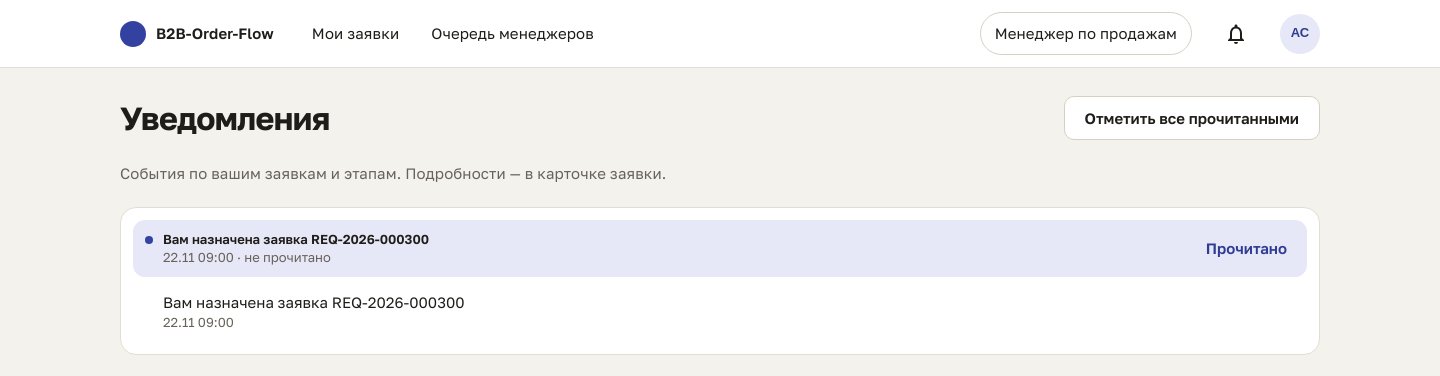
Test: UI-14. Экран уведомлений › запрос счётчика упал, а список загрузился › на экране кнопка активна, пока в списке есть непрочитанные
Check: the element with test id "notifications-row-n-1" is shown, box [133,220,1307,276]
Click the button with test id "action-read-all".
click(1192, 118)  # box [1064,96,1320,140]
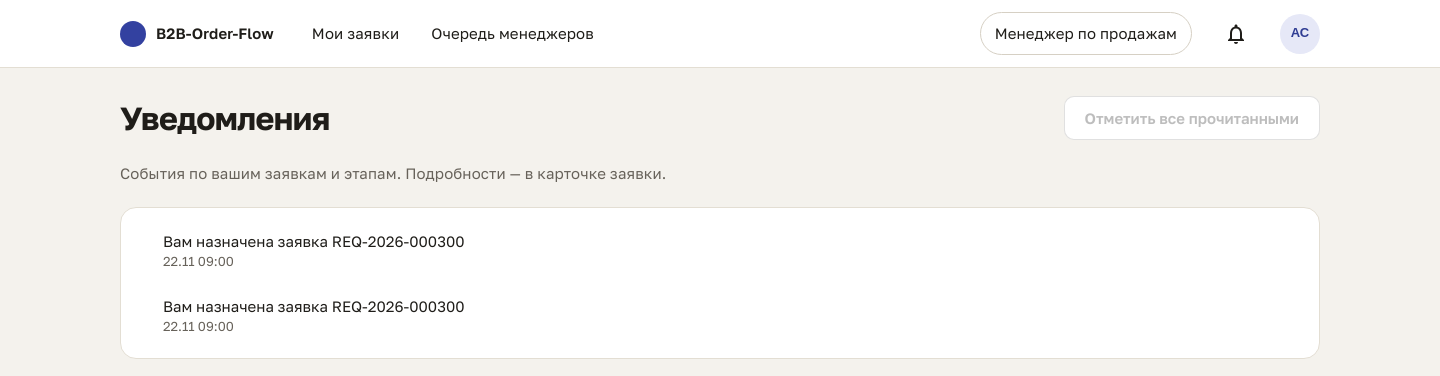
Check: the button with test id "action-read-all" is disabled, box [1064,96,1320,140]
